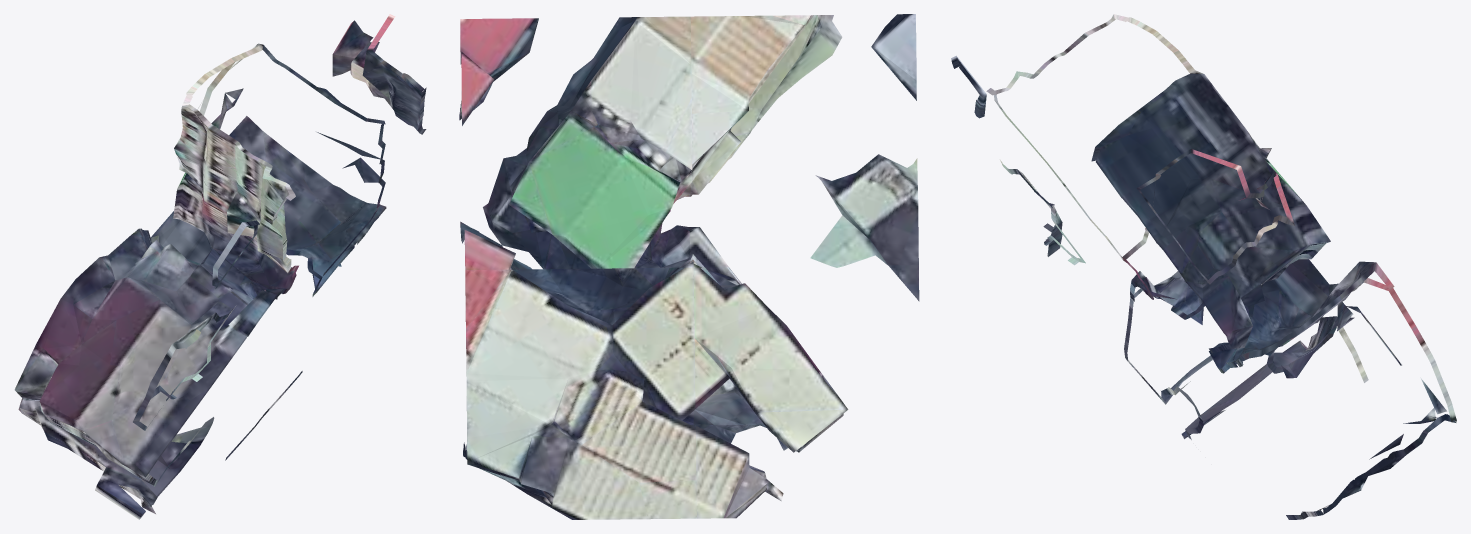
3 views of the same model, side by side, from view 1: azimuth 30°, elevation 25°; view 2: azimuth 150°, elevation 25°; view 3: azimuth 270°, elevation 25° (orthographic). The views are drawn at different scales.
Size of the model in its own units: 35.89 by 39.7 by 40.71.
Materials: 2 (2 with a texture image).
